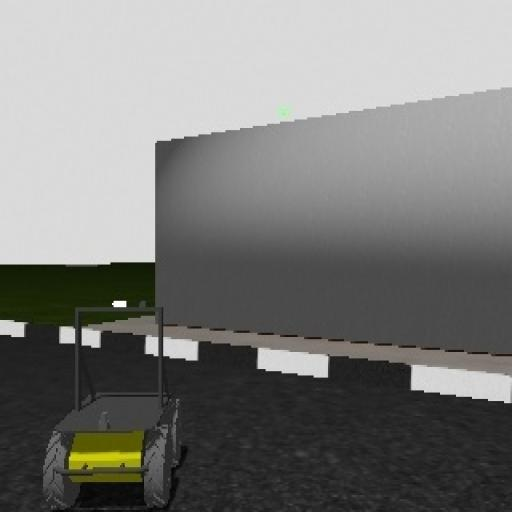huskya200: (25, 292, 185, 512)
